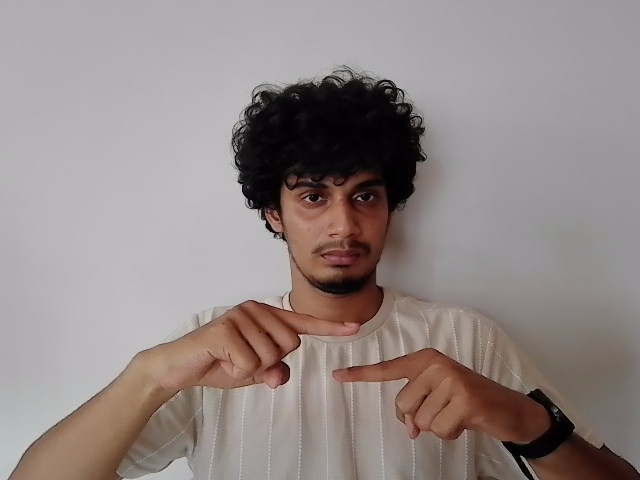about: (124, 299, 522, 444)
